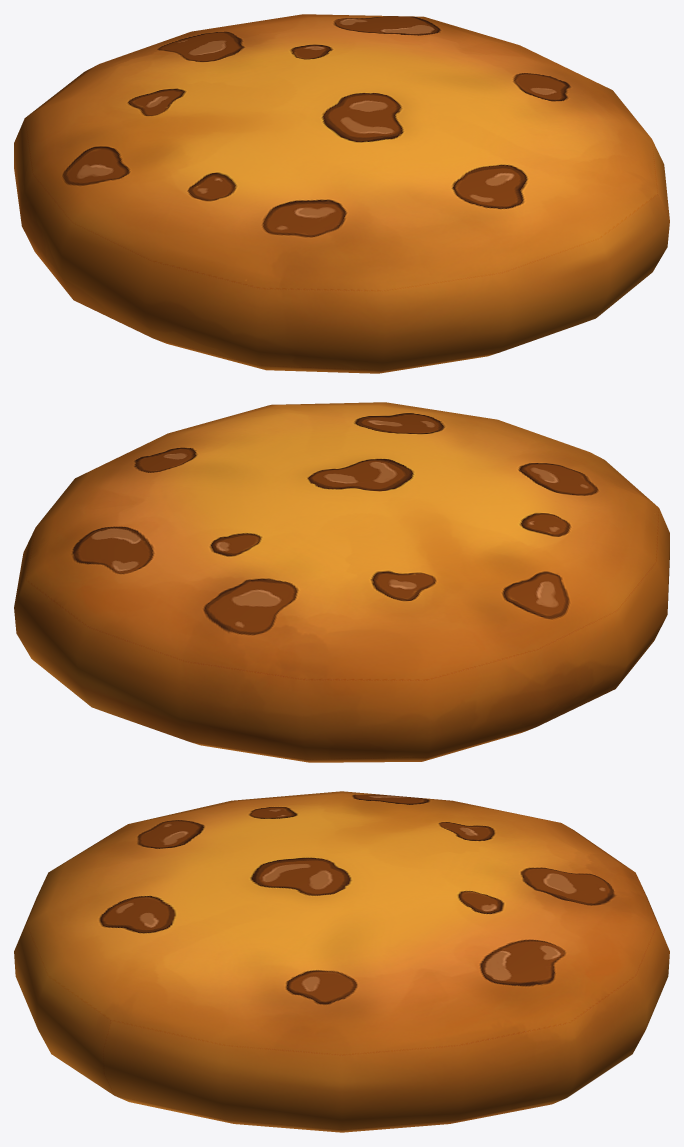
File: Mdl_Cookie.fbx
The picture shows the model from 3 angles, top to bottom: view 1: azimuth 30°, elevation 25°; view 2: azimuth 150°, elevation 25°; view 3: azimuth 270°, elevation 25°; orthographic projection. The views are drawn at different scales.
Visible parts, largest first — view 1: Mesh_Cookie; view 2: Mesh_Cookie; view 3: Mesh_Cookie.
Part boxes in pixels (x1,y1,x2,y2): Mesh_Cookie: [14, 14, 669, 373]; Mesh_Cookie: [14, 402, 669, 762]; Mesh_Cookie: [14, 791, 669, 1132].
Bounding box in the file's own units: 299 × 75.99 × 308.
